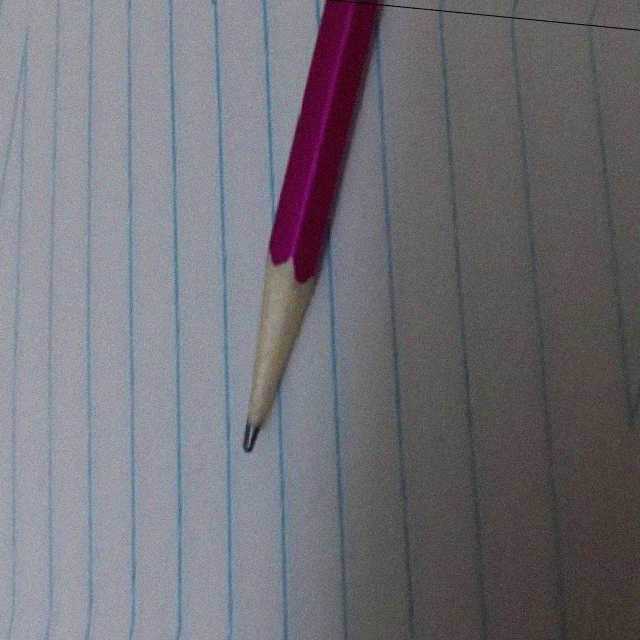pencil: (218, 246, 318, 465)
